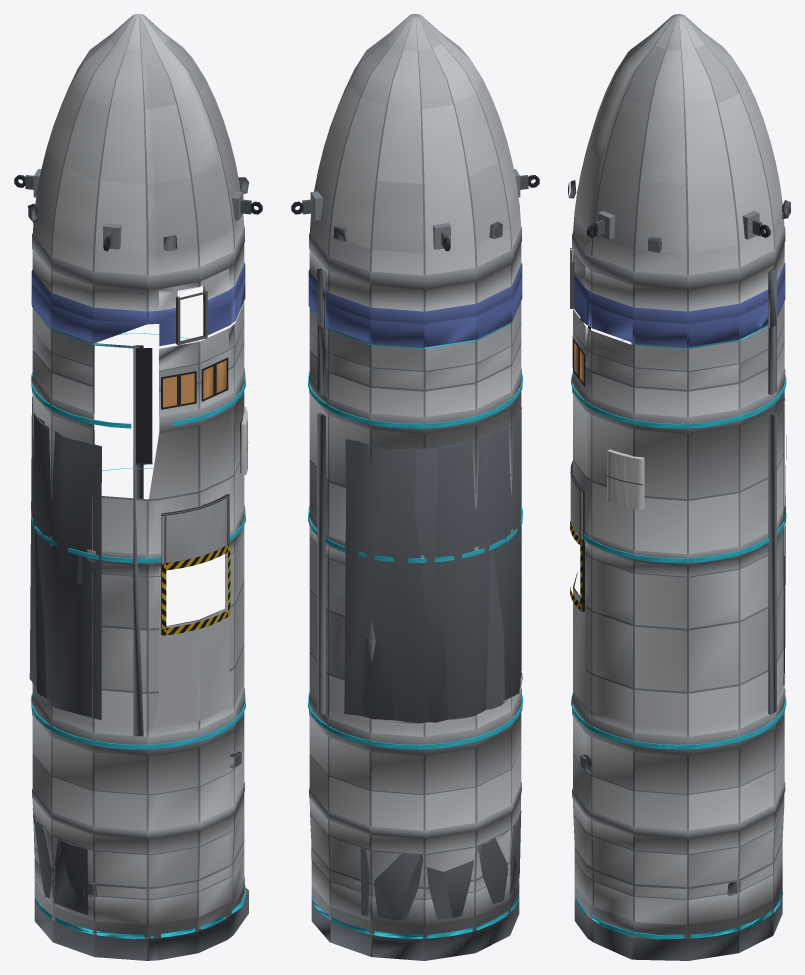
Rendered from hull_channel_relief_1720_4700a081.glb.
The picture shows the model from 3 angles, left to right: view 1: azimuth 30°, elevation 25°; view 2: azimuth 150°, elevation 25°; view 3: azimuth 270°, elevation 25°; orthographic projection.
Visible parts, largest first — view 1: Study_1720_Hull_Channel_PROPOSAL; view 2: Study_1720_Hull_Channel_PROPOSAL; view 3: Study_1720_Hull_Channel_PROPOSAL.
Part boxes in pixels (x1,y1,x2,y2): Study_1720_Hull_Channel_PROPOSAL: (14, 14, 262, 960); Study_1720_Hull_Channel_PROPOSAL: (291, 14, 539, 960); Study_1720_Hull_Channel_PROPOSAL: (568, 14, 790, 960).
Size of the model in its own units: 8.48 by 37.55 by 8.4.
